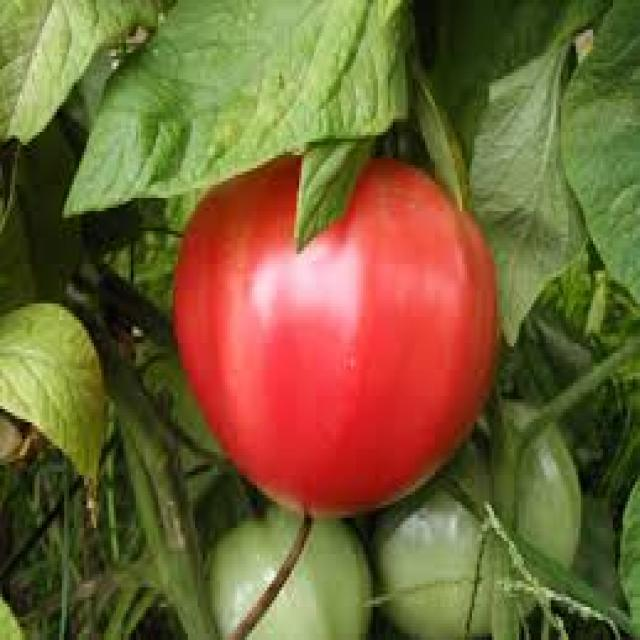organic waste: (171, 142, 494, 514), (57, 0, 410, 208), (381, 399, 578, 637), (475, 23, 583, 333), (0, 297, 104, 511), (205, 508, 368, 637), (576, 0, 638, 300)
